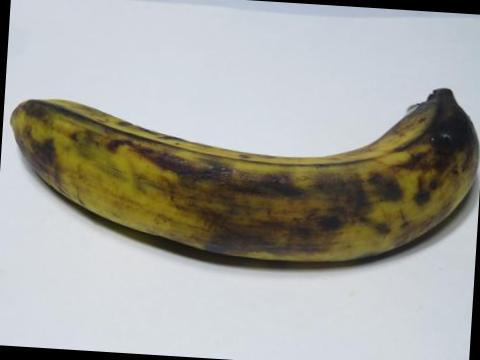overripe: (18, 72, 479, 269)
rotten: (392, 86, 474, 191)
